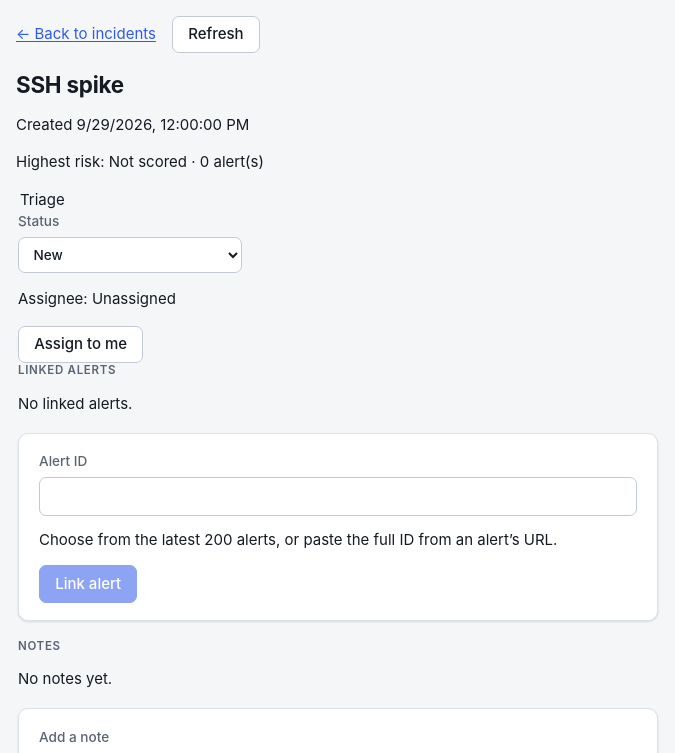
IncidentDetail › claims, closes, reopens and unassigns the incident
The image size is (675, 753).
Expected: the heading "SSH spike" is shown, [16,71,124,98]
Click the button "Assign to me". click: (81, 345)
box: [18,326,143,363]
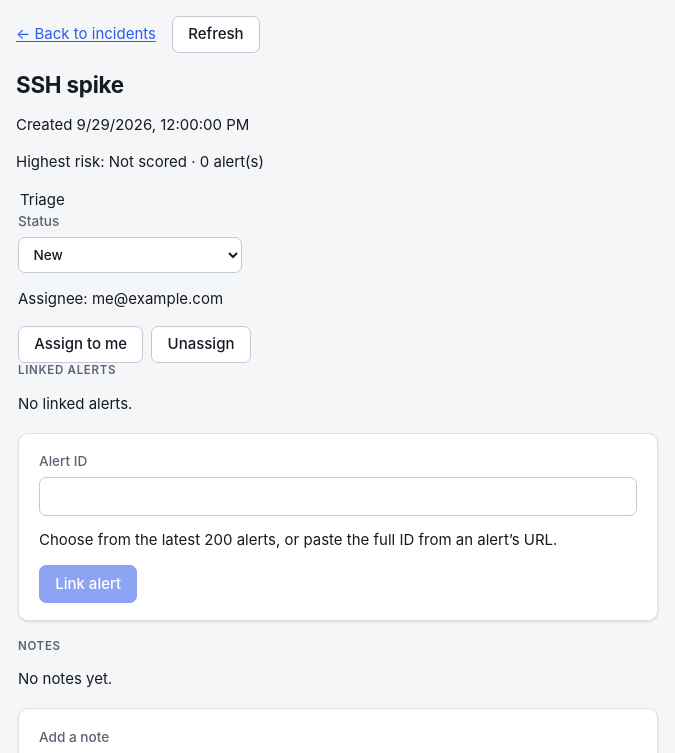
Expected: the text "Assignee: me@example.com" is shown, [18,289,223,308]
Select "Closed" in the dropdown labelled "Status". click: (130, 255)
box: [18,237,242,273]
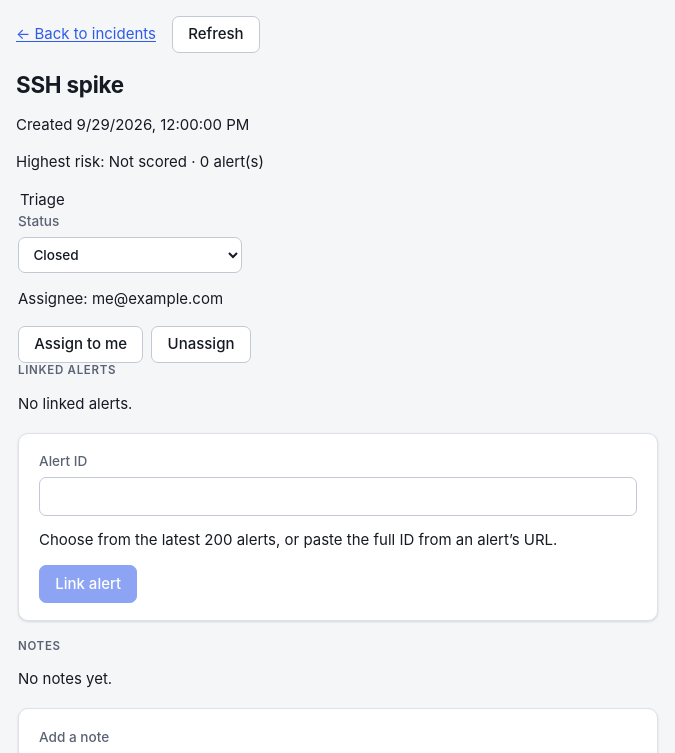
Select "New" in the dropdown labelled "Status". click: (130, 255)
box: [18,237,242,273]
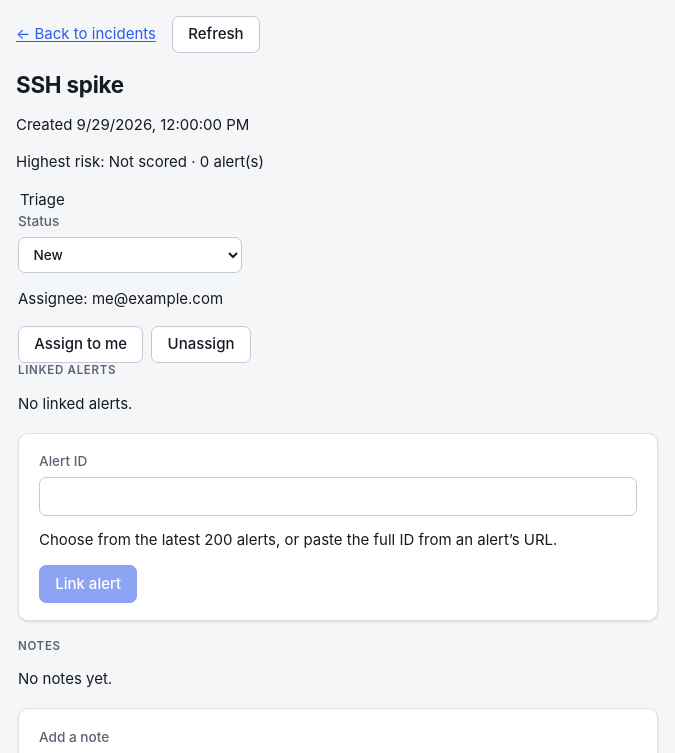
Click the button "Unassign". click: (201, 345)
box: [151,326,251,363]
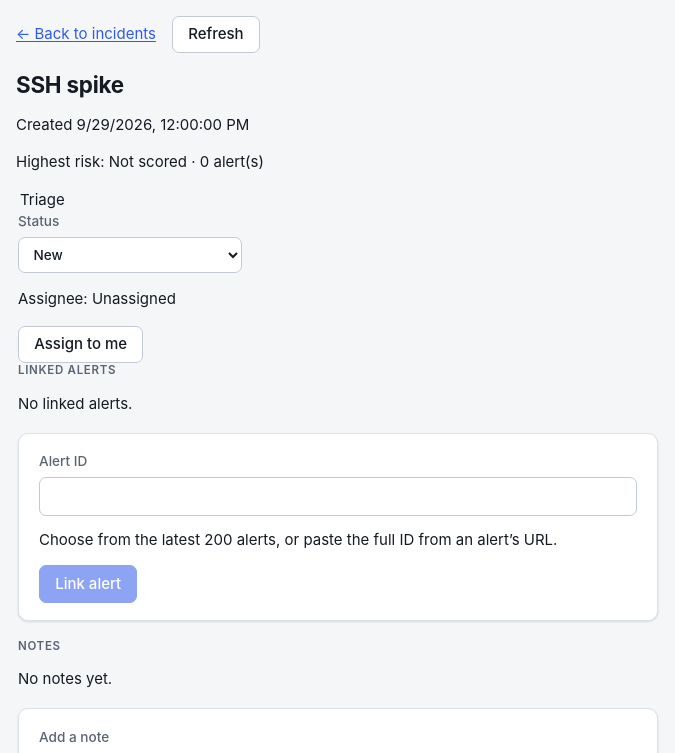
Expected: the text "Assignee: Unassigned" is shown, [18,289,176,308]
